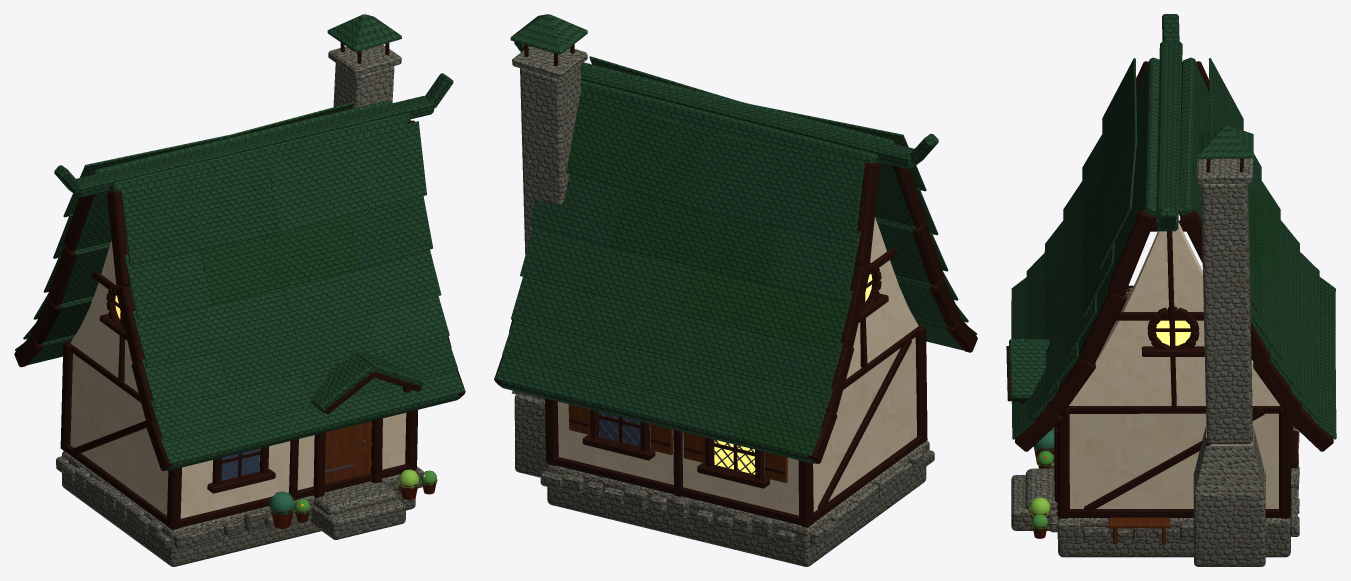
Rendered from azshara_house_3.gltf.
3 views of the same model, side by side, from view 1: azimuth 30°, elevation 25°; view 2: azimuth 150°, elevation 25°; view 3: azimuth 270°, elevation 25° (orthographic). The views are drawn at different scales.
Parts seen in each view (by area): view 1: azshara_house_3_roof_LOD0, azshara_house_3_trim_LOD0, azshara_house_3_base_LOD0, azshara_house_3_wall_LOD0, azshara_house_3_door_LOD0, azshara_house_3_flora_LOD0, azshara_house_3_glass_LOD0; view 2: azshara_house_3_roof_LOD0, azshara_house_3_base_LOD0, azshara_house_3_trim_LOD0, azshara_house_3_wall_LOD0, azshara_house_3_door_LOD0, azshara_house_3_glow_FFB65A_LOD0, azshara_house_3_metal_LOD0, azshara_house_3_glass_LOD0; view 3: azshara_house_3_roof_LOD0, azshara_house_3_base_LOD0, azshara_house_3_wall_LOD0, azshara_house_3_trim_LOD0, azshara_house_3_door_LOD0, azshara_house_3_flora_LOD0, azshara_house_3_glow_FFB65A_LOD0.
Part boxes in pixels (x1=…): azshara_house_3_roof_LOD0: x1=15, y1=14, x2=464, y2=470; azshara_house_3_trim_LOD0: x1=14, y1=42, x2=465, y2=530; azshara_house_3_base_LOD0: x1=56, y1=44, x2=423, y2=566; azshara_house_3_wall_LOD0: x1=70, y1=241, x2=406, y2=518; azshara_house_3_door_LOD0: x1=269, y1=421, x2=437, y2=528; azshara_house_3_flora_LOD0: x1=269, y1=469, x2=436, y2=515; azshara_house_3_glass_LOD0: x1=221, y1=448, x2=259, y2=479; azshara_house_3_roof_LOD0: x1=495, y1=14, x2=976, y2=463; azshara_house_3_base_LOD0: x1=511, y1=46, x2=934, y2=566; azshara_house_3_trim_LOD0: x1=494, y1=44, x2=977, y2=527; azshara_house_3_wall_LOD0: x1=557, y1=217, x2=918, y2=515; azshara_house_3_door_LOD0: x1=568, y1=404, x2=787, y2=482; azshara_house_3_glow_FFB65A_LOD0: x1=714, y1=274, x2=872, y2=474; azshara_house_3_metal_LOD0: x1=599, y1=412, x2=755, y2=474; azshara_house_3_glass_LOD0: x1=599, y1=412, x2=640, y2=446; azshara_house_3_roof_LOD0: x1=1009, y1=14, x2=1336, y2=439; azshara_house_3_base_LOD0: x1=1011, y1=157, x2=1299, y2=566; azshara_house_3_wall_LOD0: x1=1069, y1=222, x2=1280, y2=508; azshara_house_3_trim_LOD0: x1=1006, y1=61, x2=1333, y2=518; azshara_house_3_door_LOD0: x1=1029, y1=446, x2=1170, y2=544; azshara_house_3_flora_LOD0: x1=1029, y1=429, x2=1054, y2=529; azshara_house_3_glow_FFB65A_LOD0: x1=1156, y1=320, x2=1190, y2=345.
Size of what is drawn, in the model's own units: 10.67 by 11.18 by 7.48.
Materials: 10 (5 with a texture image).
